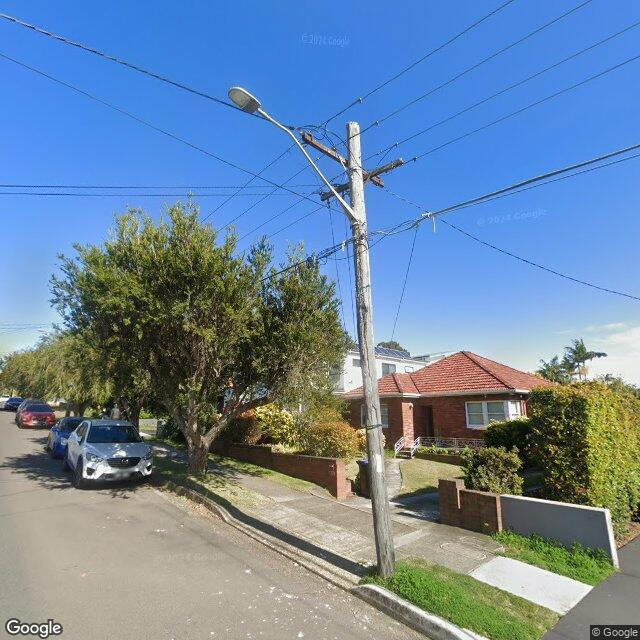crossarm: (301, 133, 387, 189), (320, 158, 405, 202)
streetlight: (227, 86, 361, 226)
timber-pole: (348, 120, 396, 578)
